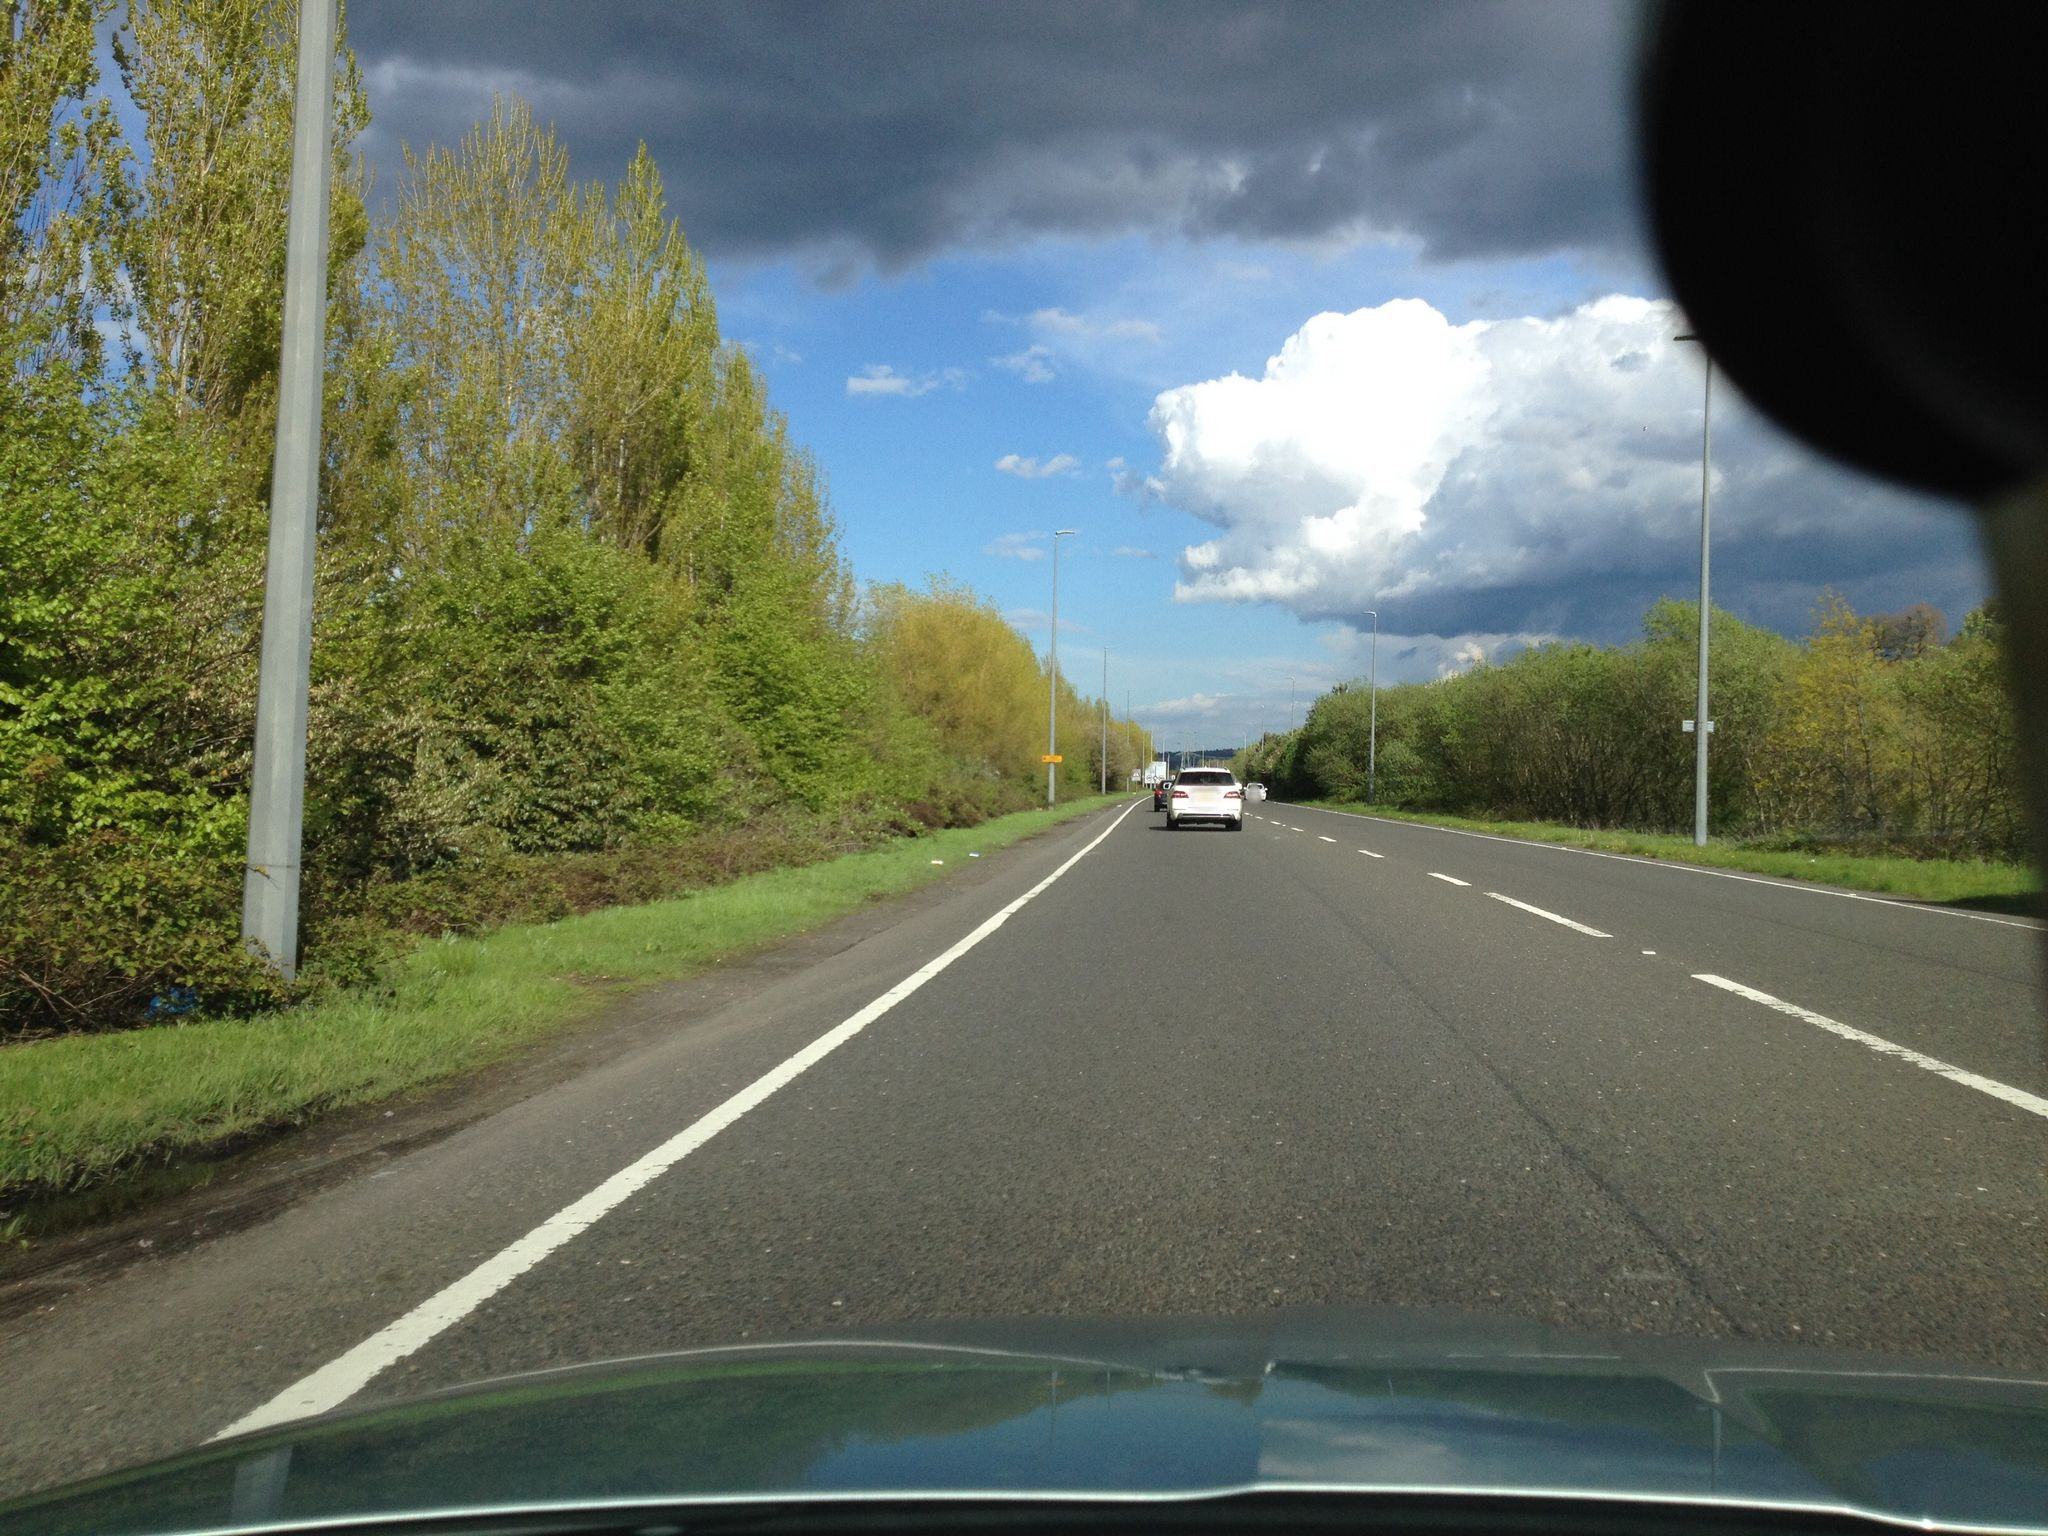car: (1164, 766, 1245, 833), (1151, 779, 1174, 812), (1242, 783, 1268, 802)
